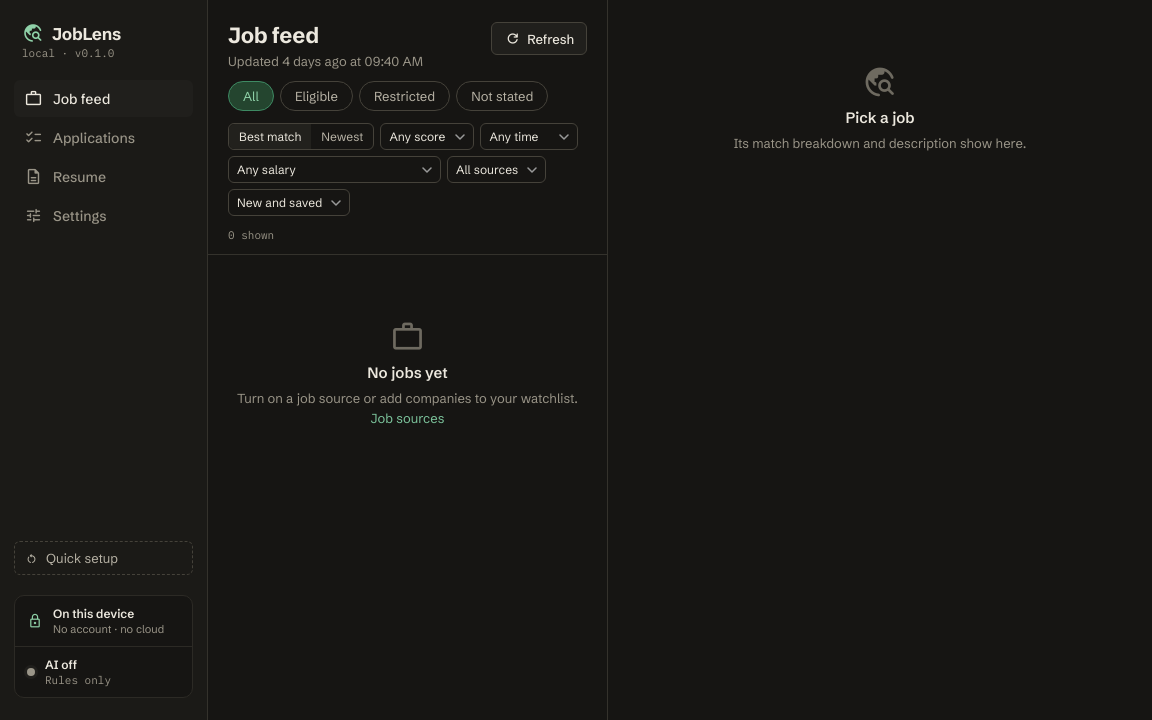
Test: Application tracker › shows the follow-up strip and logs a follow-up
Click the button "Applications": (104, 138) 14,119 -> 193,156
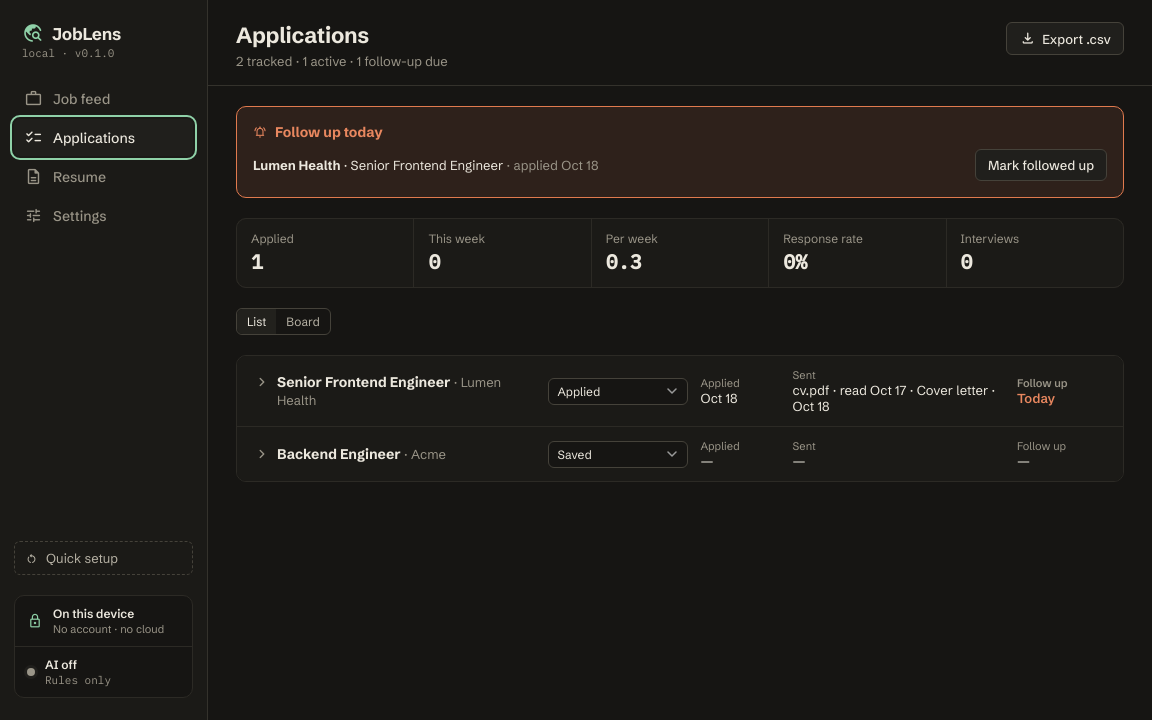
Expected: the text "2 tracked · 1 active · 1 follow-up due" is shown, 236,53 -> 448,69
Expected: the element "Follow up today" shows "Lumen Health", 253,157 -> 340,173
Click the button "Mark followed up": (1041, 165) 975,149 -> 1107,181
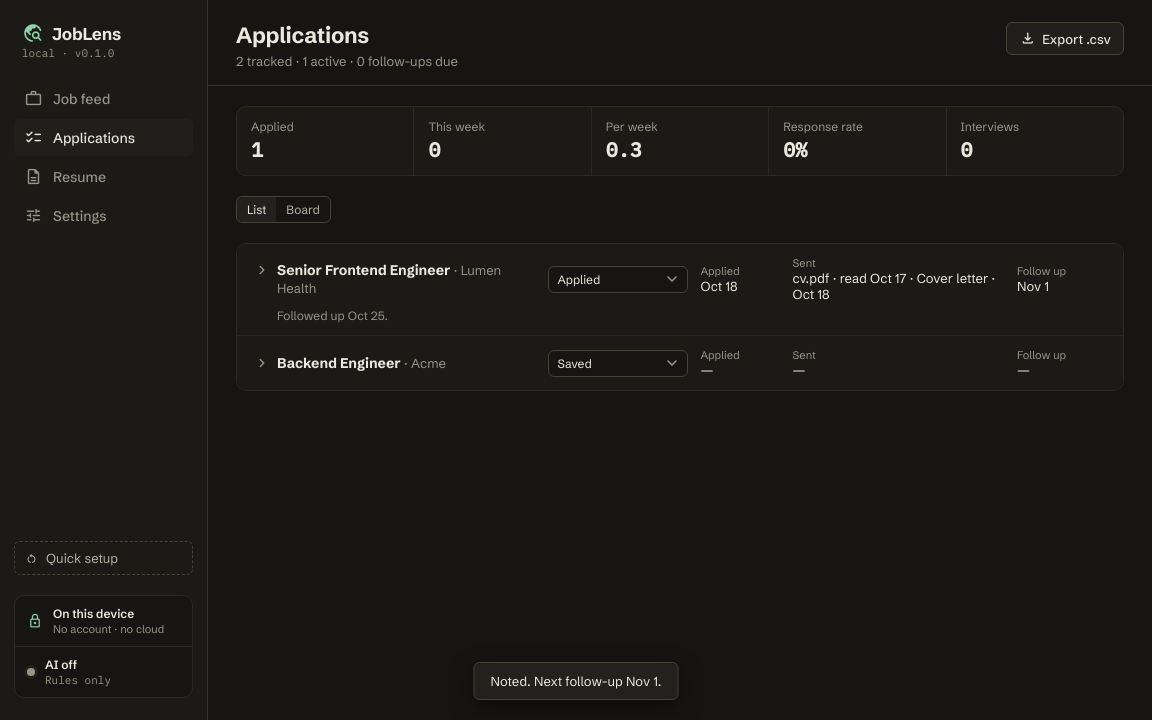
Expected: the list named "Applications" shows "cv.pdf · read Oct 17 · Cover letter · Oct 18", 792,270 -> 995,302
Expected: the heading "Follow up today" is gone
Expected: the text "Followed up Oct 25." is shown, 277,308 -> 388,323
